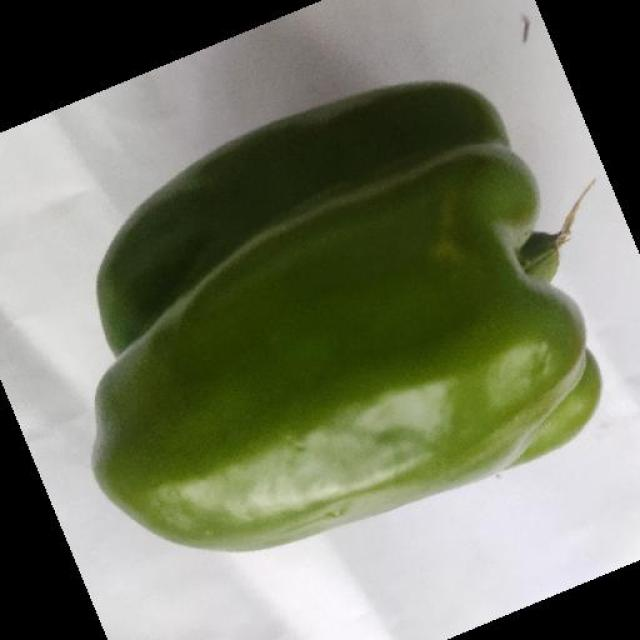Fresh_Capsicum: (106, 185, 634, 495)
